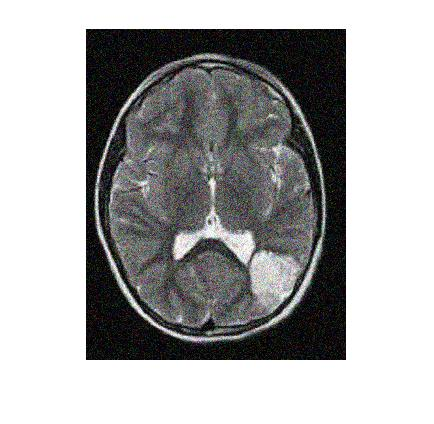Brain_Cancer: (245, 251, 307, 308)
